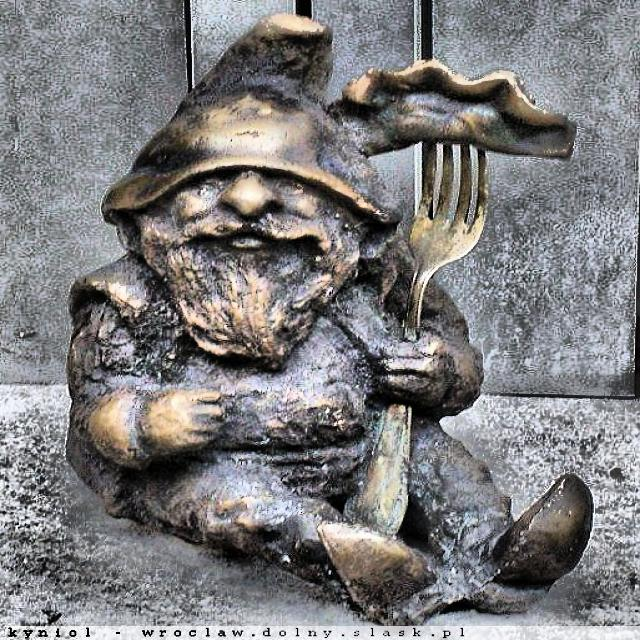Pieroznik: (65, 12, 593, 627)
